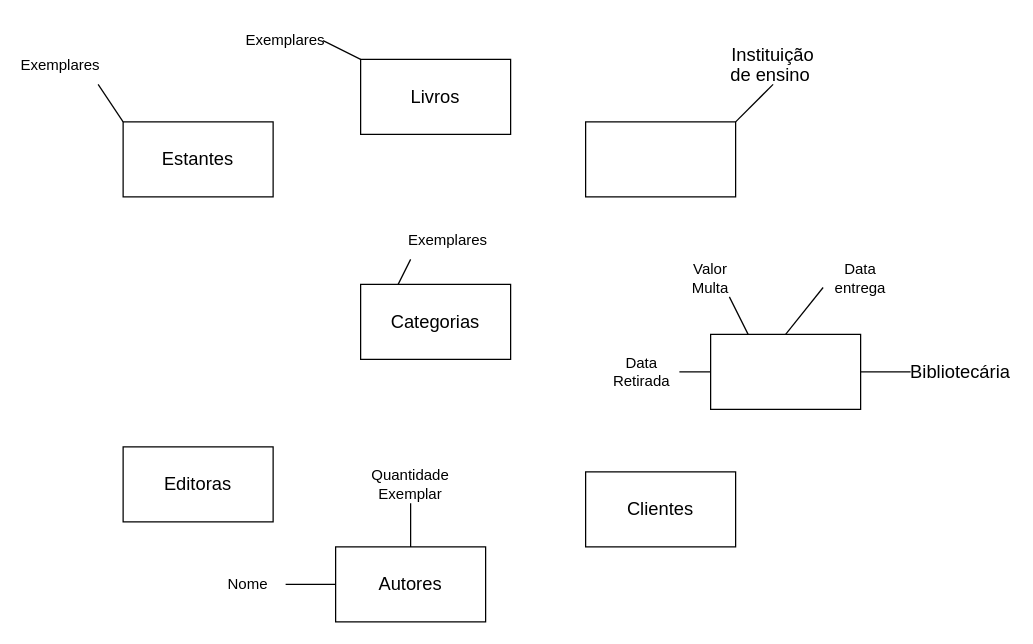
Some shapes in this 1033 by 644 pixel diagram are drawn without their labels. The shapes that lost their labels are listed below. From the top down, each one's centre as x and y in pixels, then its label:
At (x=660, y=159): "Bibliotecárias".
At (x=785, y=371): "Empréstimo".
